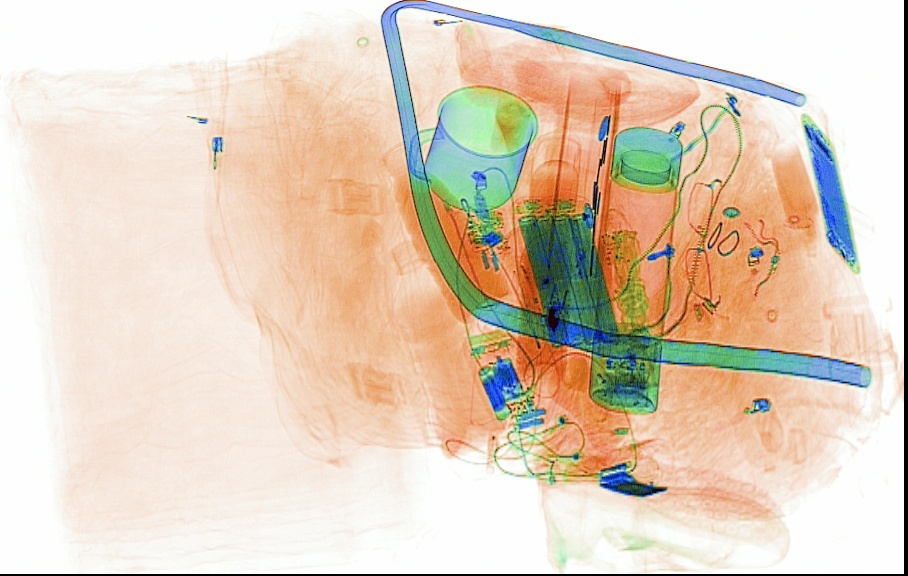powerbank: (511, 191, 621, 355)
